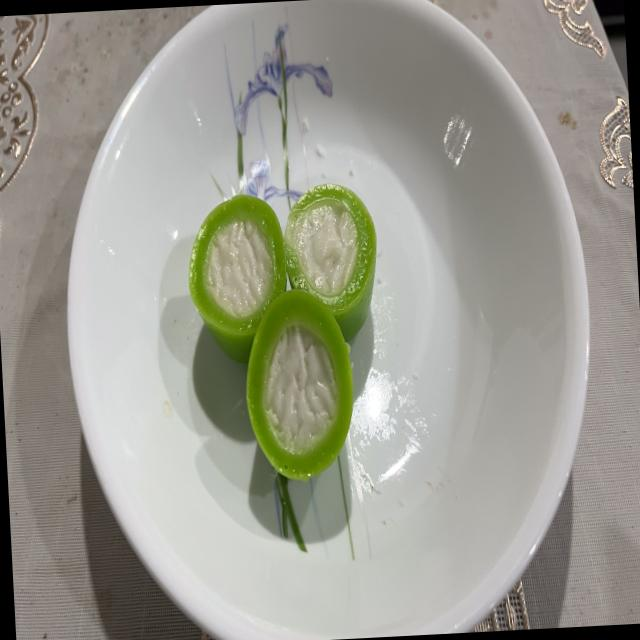nona-manis: (246, 290, 354, 481), (189, 195, 287, 362), (284, 184, 377, 341)
